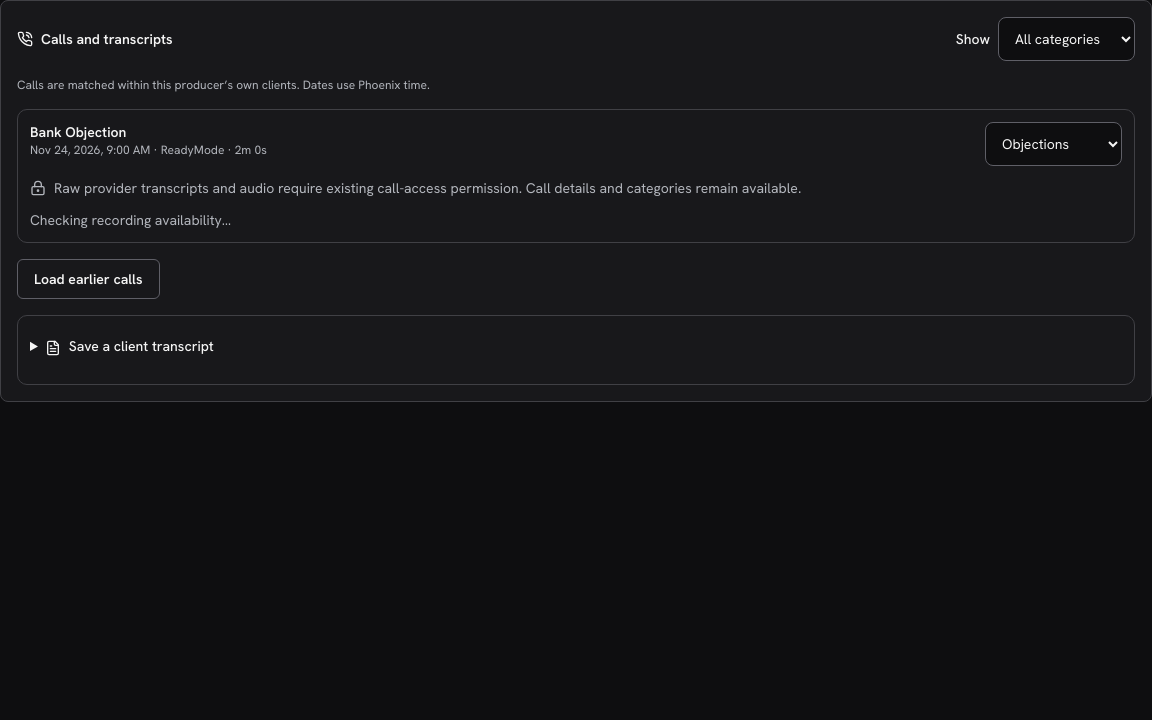
Scenario: client call history › uses stable page cursors and resets them when the category changes
Click the button "Load earlier calls": (88, 279) [17, 259, 160, 299]
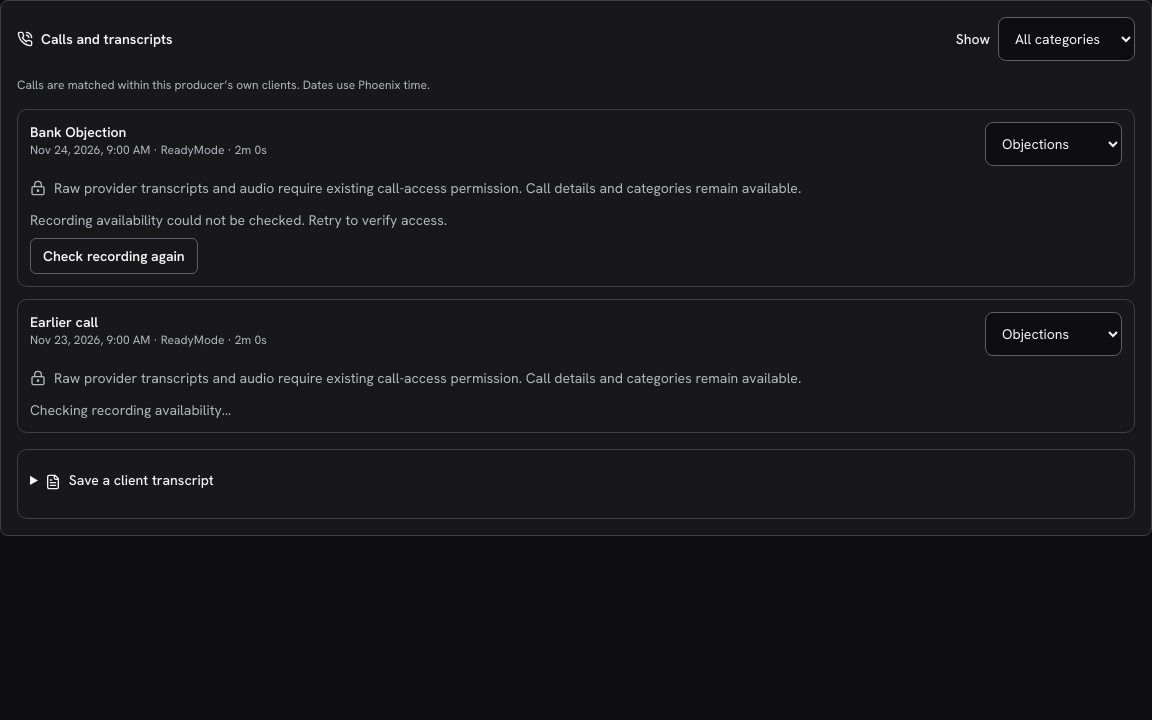
Expected: the text "Earlier call" is shown, [30, 313, 98, 331]
Select "Objections" in the dropdown labelled "Show": (1066, 39) [998, 17, 1135, 61]
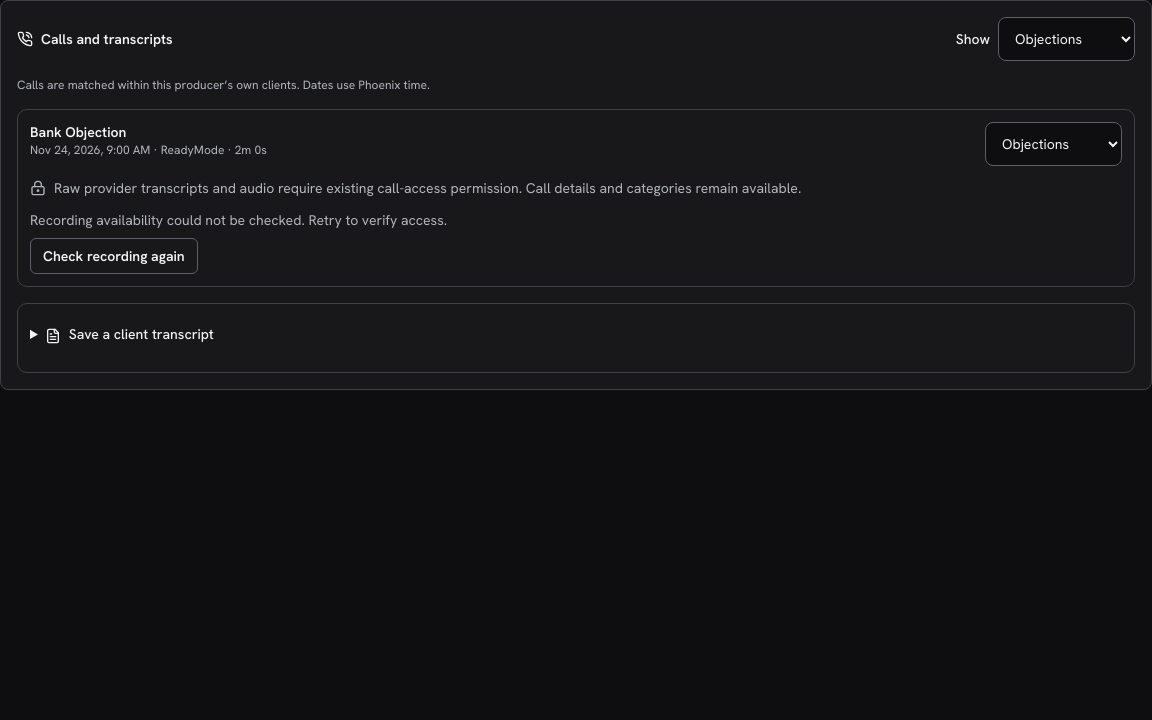
Expected: the text "Earlier call" is gone
